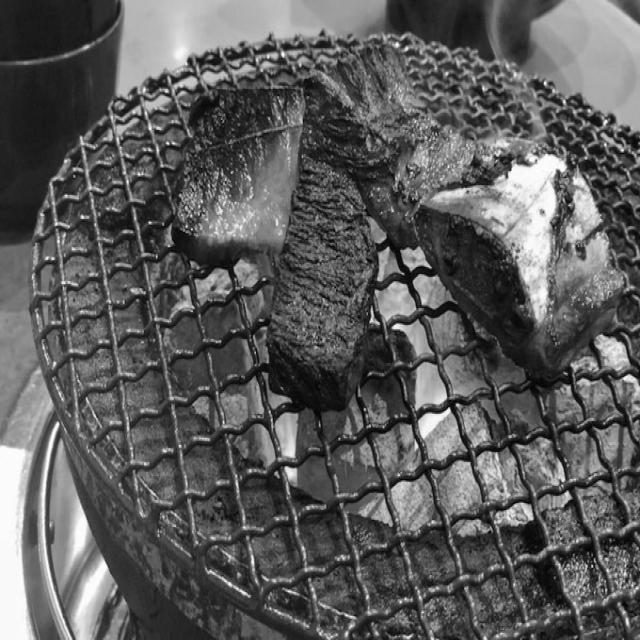overcooked beef,: (145, 71, 322, 272), (257, 145, 384, 416)
